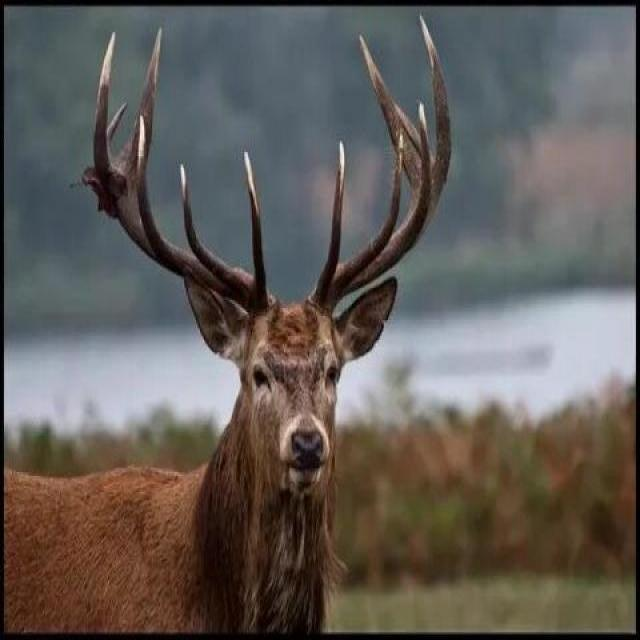deer: (56, 10, 482, 633)
